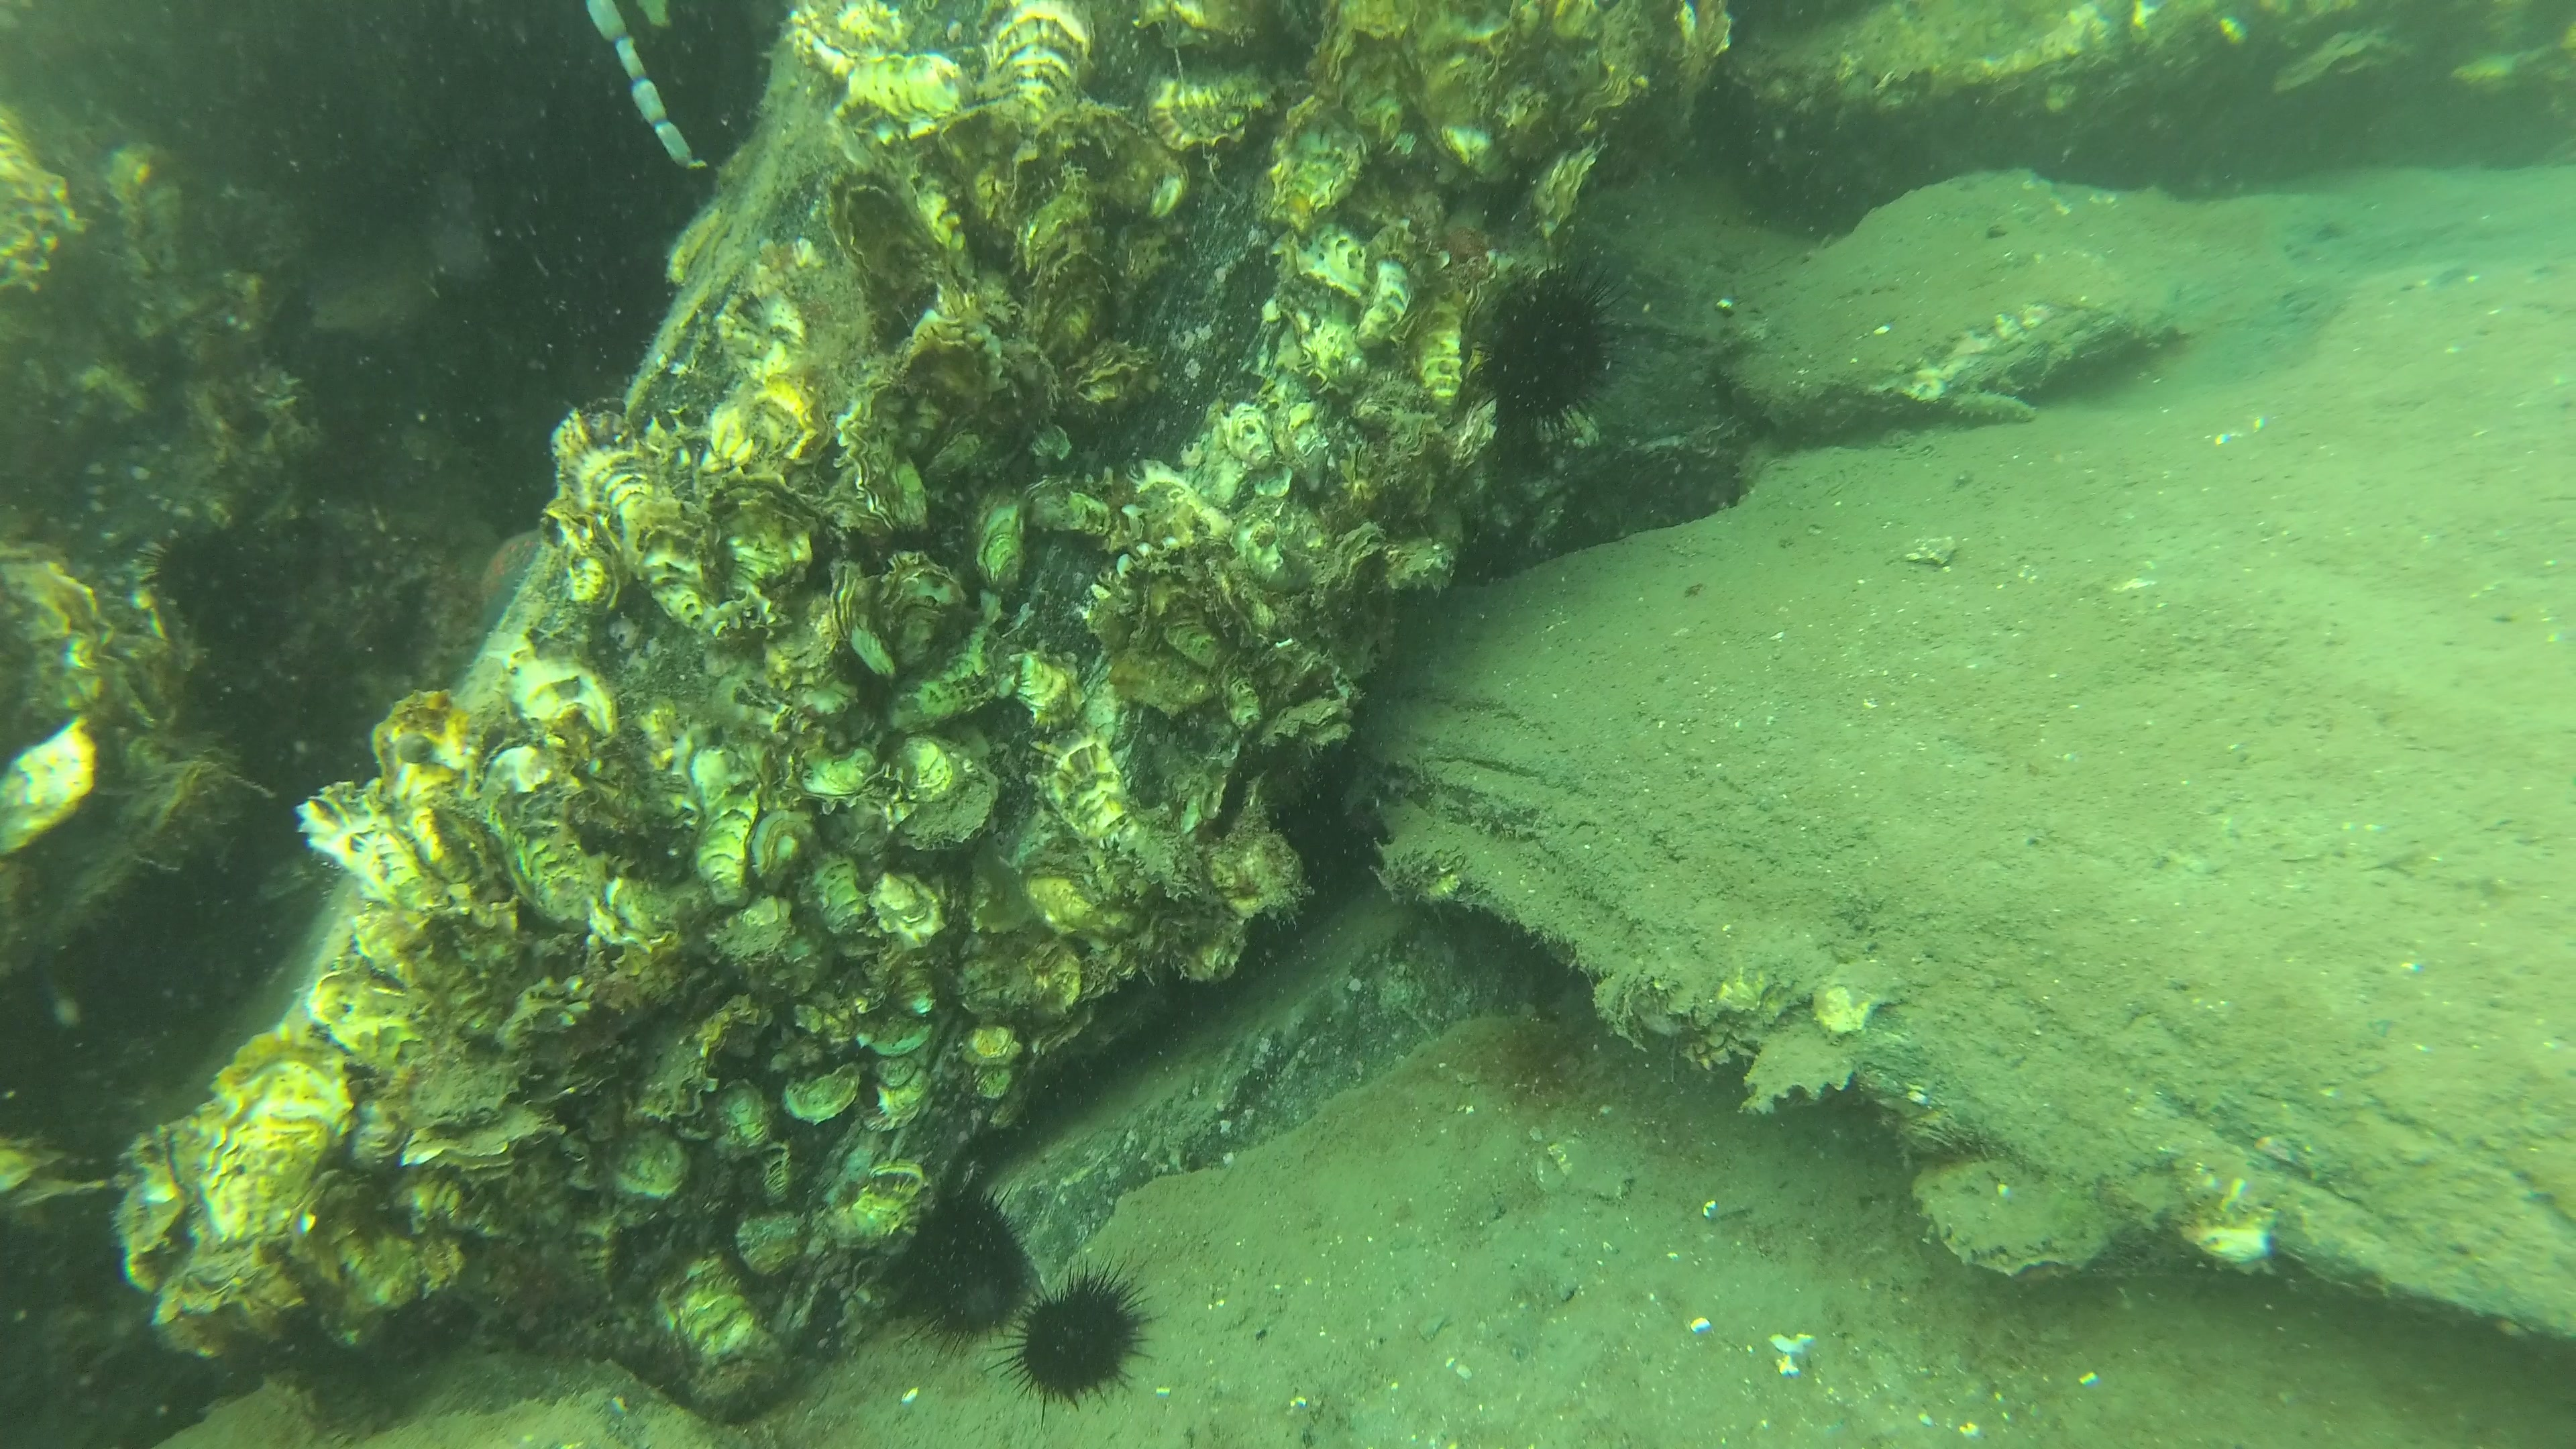echinus: (1486, 267, 1619, 430), (901, 1208, 1014, 1334), (1035, 1269, 1150, 1387)
holothurian: (1948, 387, 2035, 432)
starfish: (474, 531, 552, 621)
